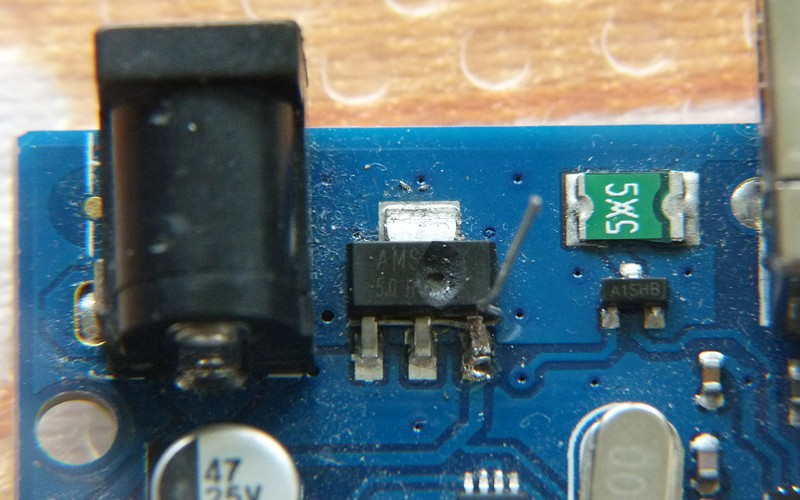Regulator: (5, 10, 799, 499)
